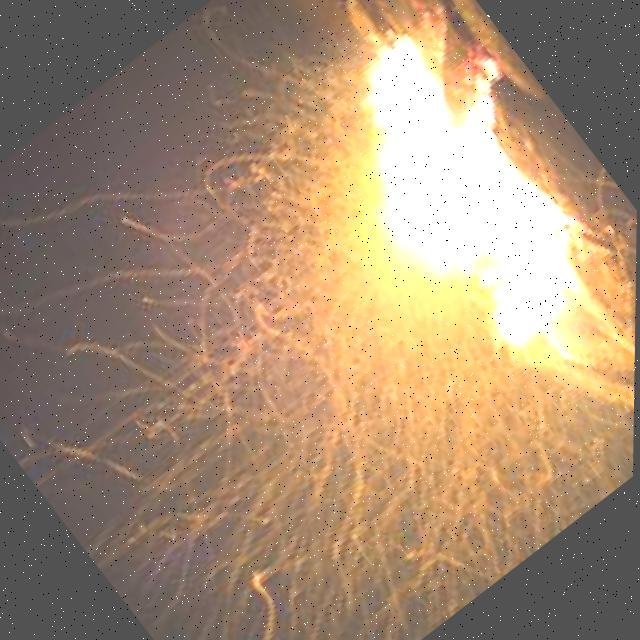Fire: (262, 0, 640, 410)
